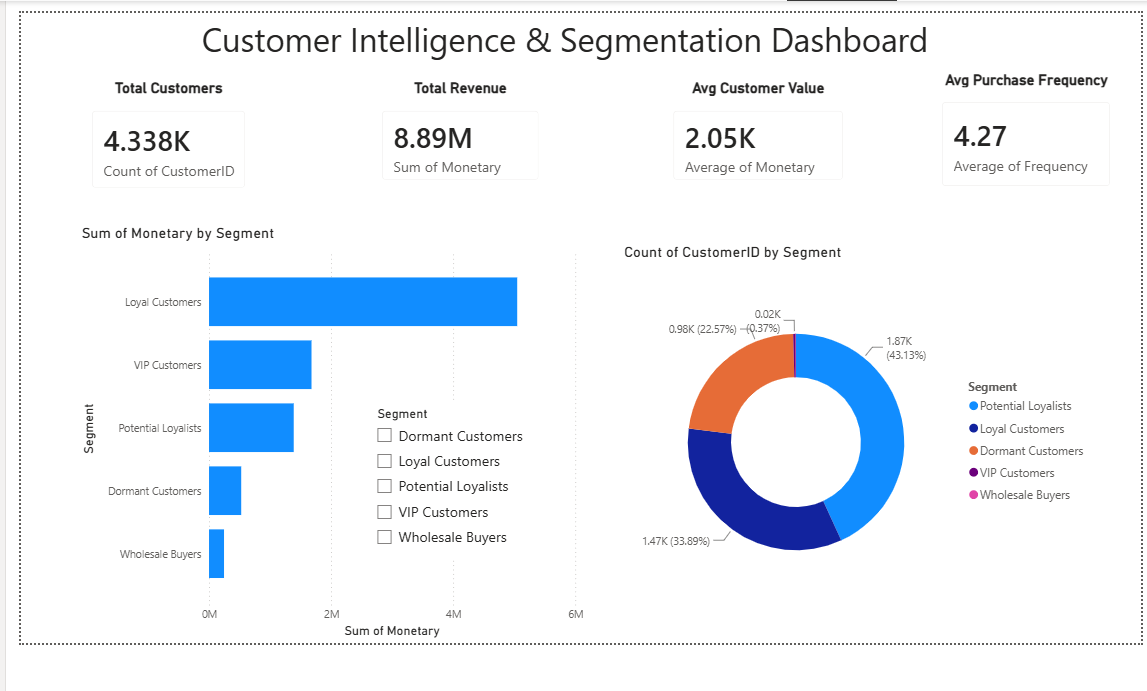

The dashboard page shown, as its layout file describes it:
{"tool":"powerbi","page":{"name":"Customer Intelligence & Segmentation Dashboard","canvas":[1280,720],"ordinal":0},"visuals":[{"type":"clusteredBarChart","fields":{"Category":["segmented_customers.Segment"],"Y":["Sum(segmented_customers.Monetary)"]},"box":[64.8,241.7,583.4,478.1],"z":0},{"type":"donutChart","fields":{"Category":["segmented_customers.Segment"],"Y":["CountNonNull(segmented_customers.CustomerID)"]},"box":[684.7,263.3,544.3,436.2],"z":1000},{"type":"cardVisual","title":"Total Customers","fields":{"Data":["CountNonNull(segmented_customers.CustomerID)"]},"box":[64.8,75.6,209.3,141.8],"z":2000},{"type":"cardVisual","title":"Total Revenue","fields":{"Data":["Sum(segmented_customers.Monetary)"]},"box":[395.7,75.6,213.4,132.3],"z":3000},{"type":"cardVisual","title":"Avg Customer Value","fields":{"Data":["Avg(segmented_customers.Monetary)"]},"box":[729.3,75.6,228.2,132.3],"z":4000},{"type":"cardVisual","title":"Avg Purchase Frequency","fields":{"Data":["Avg(segmented_customers.Frequency)"]},"box":[1035.8,66.2,226.9,149.9],"z":5000},{"type":"textbox","box":[193.1,0,857.6,62.1],"z":6000},{"type":"slicer","fields":{"Values":["segmented_customers.Segment"]},"box":[394.3,444.3,197.1,180],"z":6001}]}

Visuals, with their boxes on the page's 1280x720 design canvas (x1, y1, x2, y2). These are canvas units, not pixel positions in the 1147x691 screenshot, which may show the page scaled, cropped or inside an application window:
clusteredBarChart - segmented_customers.Segment x Sum(segmented_customers.Monetary): left=65, top=242, right=648, bottom=720
donutChart - segmented_customers.Segment x CountNonNull(segmented_customers.CustomerID): left=685, top=263, right=1229, bottom=700
"Total Customers" cardVisual: left=65, top=76, right=274, bottom=217
"Total Revenue" cardVisual: left=396, top=76, right=609, bottom=208
"Avg Customer Value" cardVisual: left=729, top=76, right=958, bottom=208
"Avg Purchase Frequency" cardVisual: left=1036, top=66, right=1263, bottom=216
textbox: left=193, top=0, right=1051, bottom=62
slicer - segmented_customers.Segment: left=394, top=444, right=591, bottom=624
